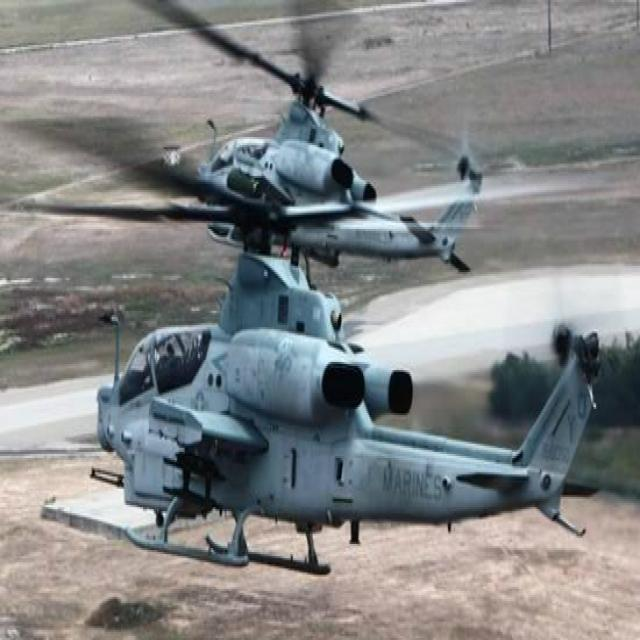MIL_HELO: (11, 125, 614, 594), (141, 0, 513, 297)
